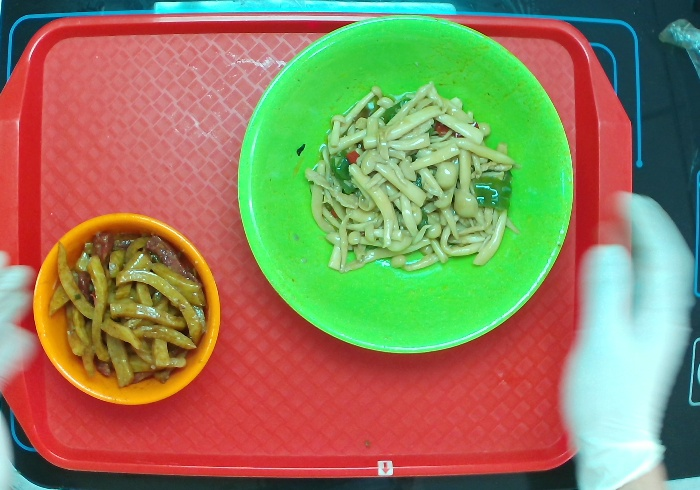YKMZ-Ju_Se_Yuan_Wan: (26, 207, 226, 406)
YKMZ-Lv_Se_Tang_Wan: (235, 8, 577, 358)
